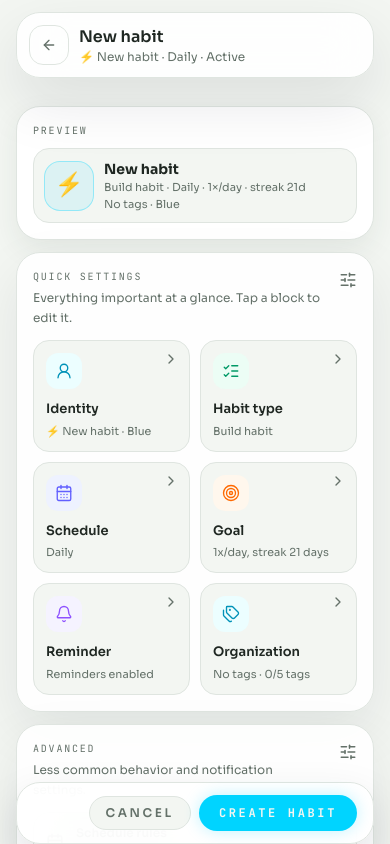
it: HabitForm › routes a dashboard name validation failure to Identity and focuses the name field
Click the button "Create habit" at point(278, 813), box left=199, top=795, right=357, bottom=831
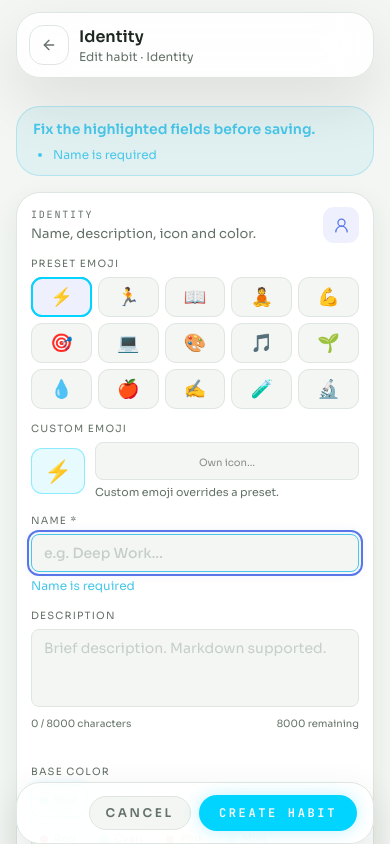
Now the message shows "Name is required", box left=53, top=147, right=157, bottom=162
